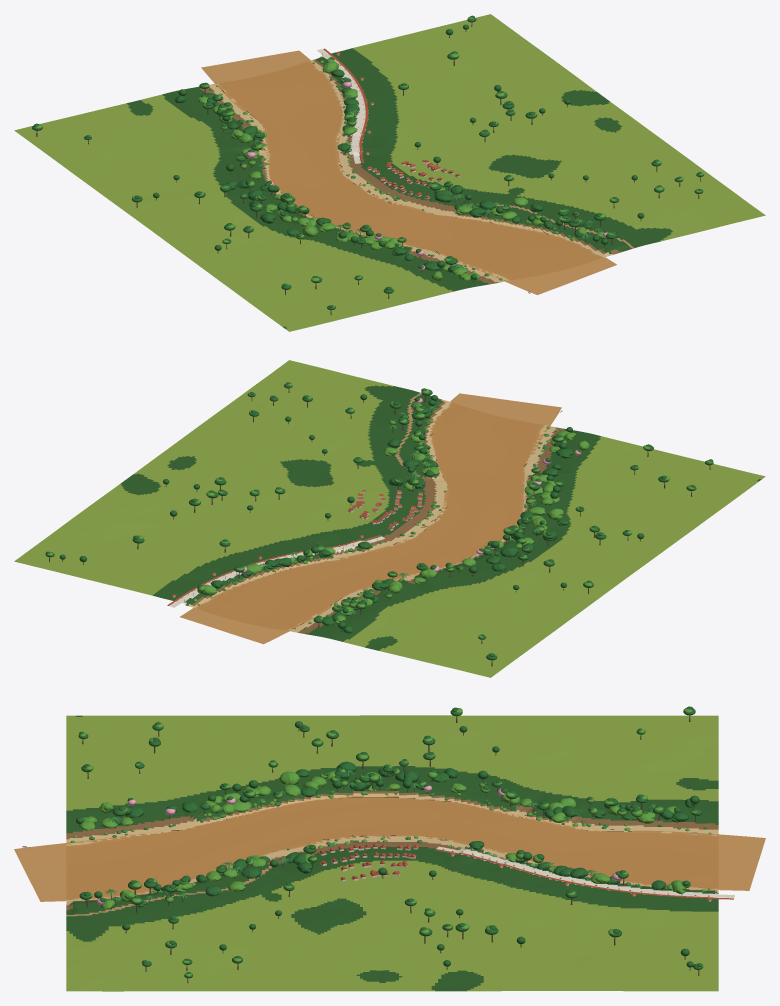
File: sinu.fbx
The picture shows the model from 3 angles, top to bottom: view 1: azimuth 30°, elevation 25°; view 2: azimuth 150°, elevation 25°; view 3: azimuth 270°, elevation 25°; orthographic projection. The views are drawn at different scales.
Visible parts, largest first — view 1: terreno_pasto_potrero, agua_rio_sinu, terreno_monte_ribera, terreno_arena_playon, terreno_barro_ribera, malecon_ronda_del_sinu; view 2: terreno_pasto_potrero, agua_rio_sinu, terreno_monte_ribera, terreno_arena_playon, terreno_barro_ribera; view 3: terreno_pasto_potrero, agua_rio_sinu, terreno_monte_ribera, terreno_arena_playon, terreno_barro_ribera, malecon_ronda_del_sinu, terreno_concreto_malecon, ciclorruta_ronda.
Part boxes in pixels (<box>): terreno_pasto_potrero: <box>14,14,765,331</box>; agua_rio_sinu: <box>201,50,616,294</box>; terreno_monte_ribera: <box>126,48,672,328</box>; terreno_arena_playon: <box>209,58,612,282</box>; terreno_barro_ribera: <box>199,59,622,284</box>; malecon_ronda_del_sinu: <box>317,49,364,163</box>; terreno_pasto_potrero: <box>14,360,765,677</box>; agua_rio_sinu: <box>180,393,561,644</box>; terreno_monte_ribera: <box>120,385,761,650</box>; terreno_arena_playon: <box>188,399,556,632</box>; terreno_barro_ribera: <box>192,398,565,633</box>; terreno_pasto_potrero: <box>66,715,718,991</box>; agua_rio_sinu: <box>14,797,765,901</box>; terreno_monte_ribera: <box>66,715,718,991</box>; terreno_arena_playon: <box>66,793,718,905</box>; terreno_barro_ribera: <box>66,791,718,910</box>; malecon_ronda_del_sinu: <box>436,846,734,897</box>; terreno_concreto_malecon: <box>458,848,718,897</box>; ciclorruta_ronda: <box>434,849,733,899</box>.
Bounding box in the file's own units: 100000 × 3922 × 115291.
